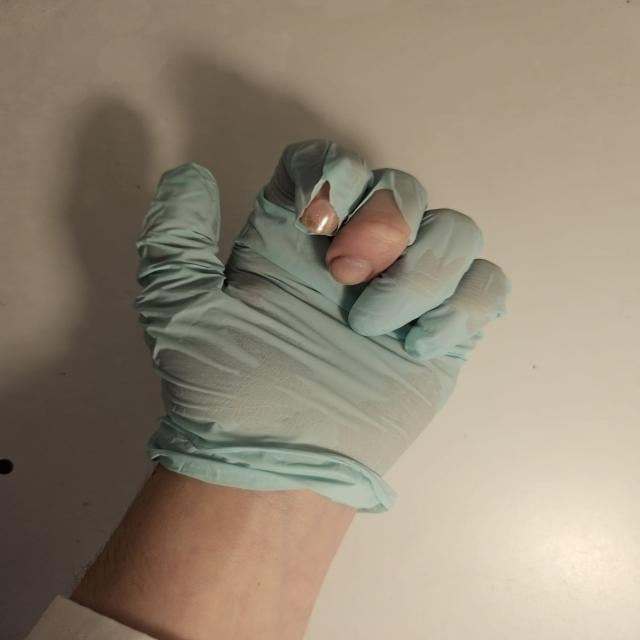gloves_damaged: (127, 137, 510, 513)
